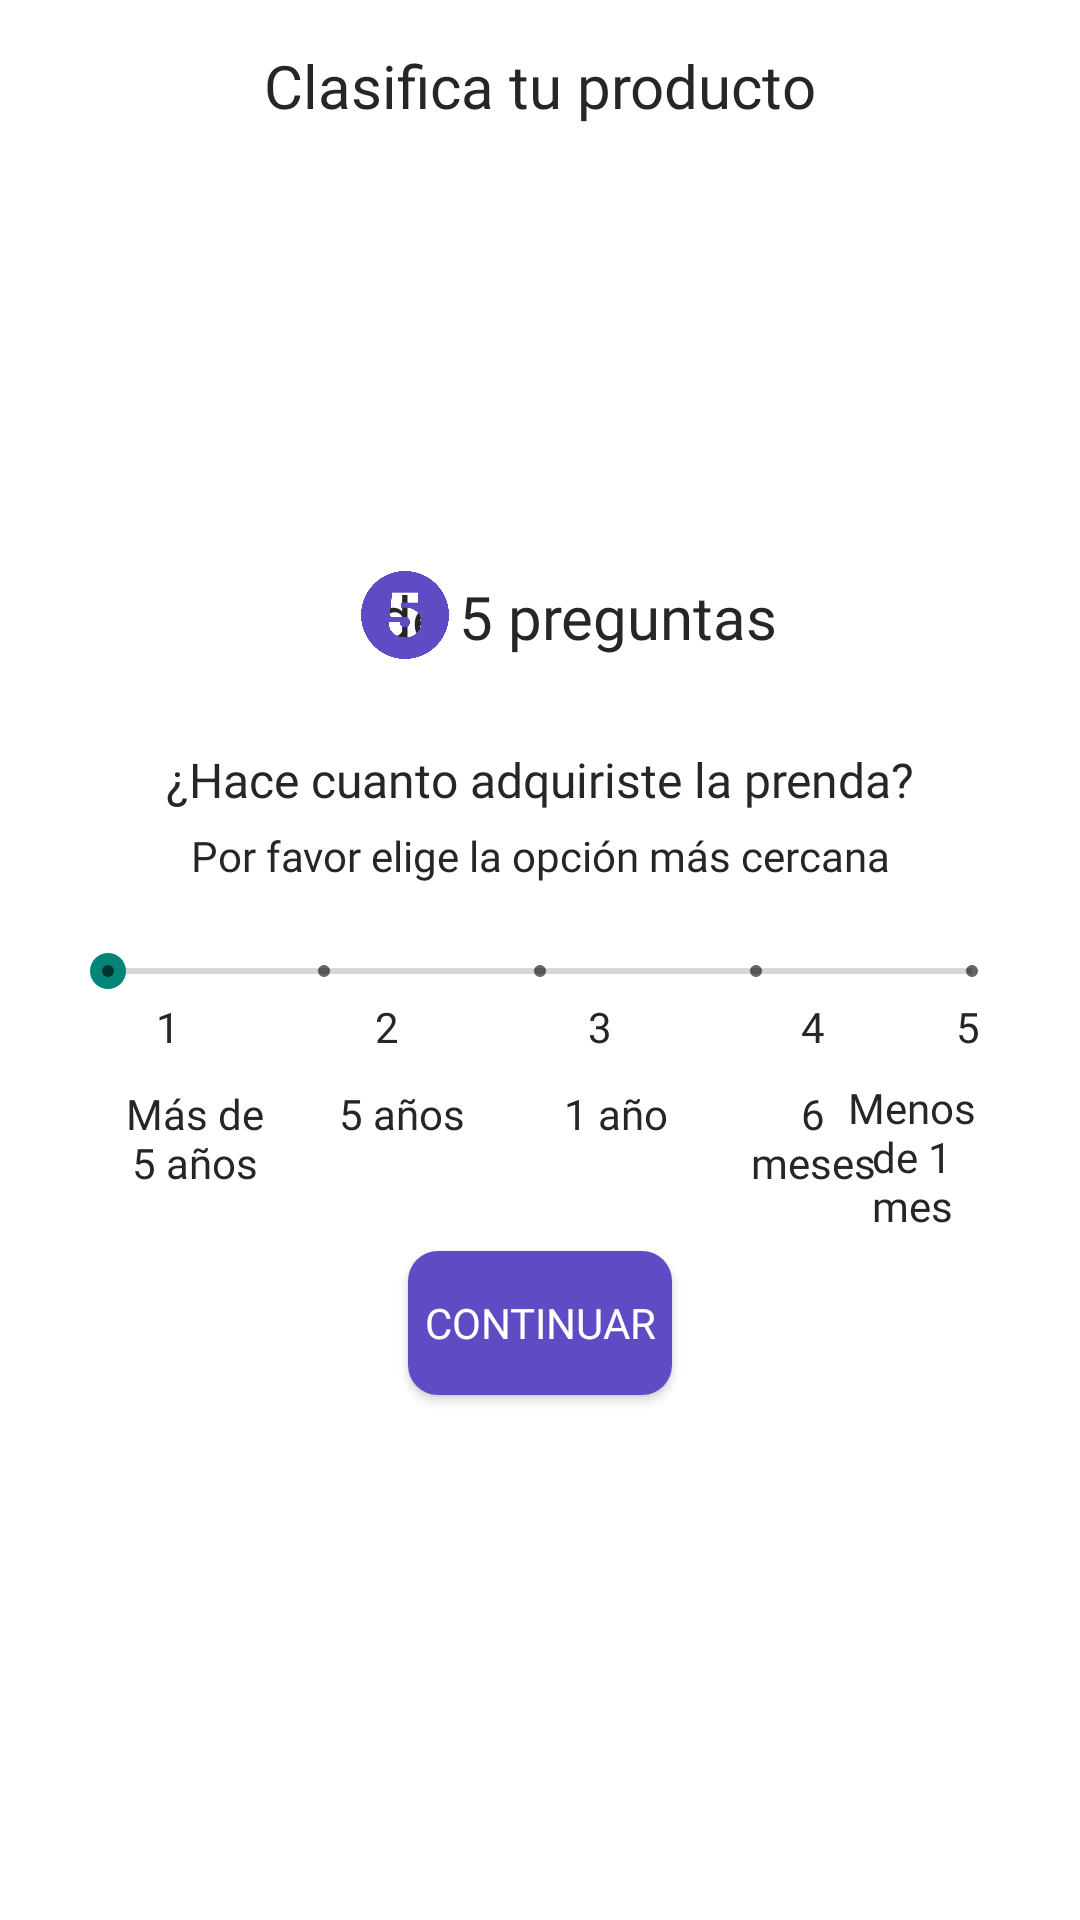

Locate icon controls on the screen. Image size 1080 × 1920, boxes as [left=x1, top=y1, right=x2, bottom=y2].
numero: [left=361, top=571, right=449, bottom=659]
